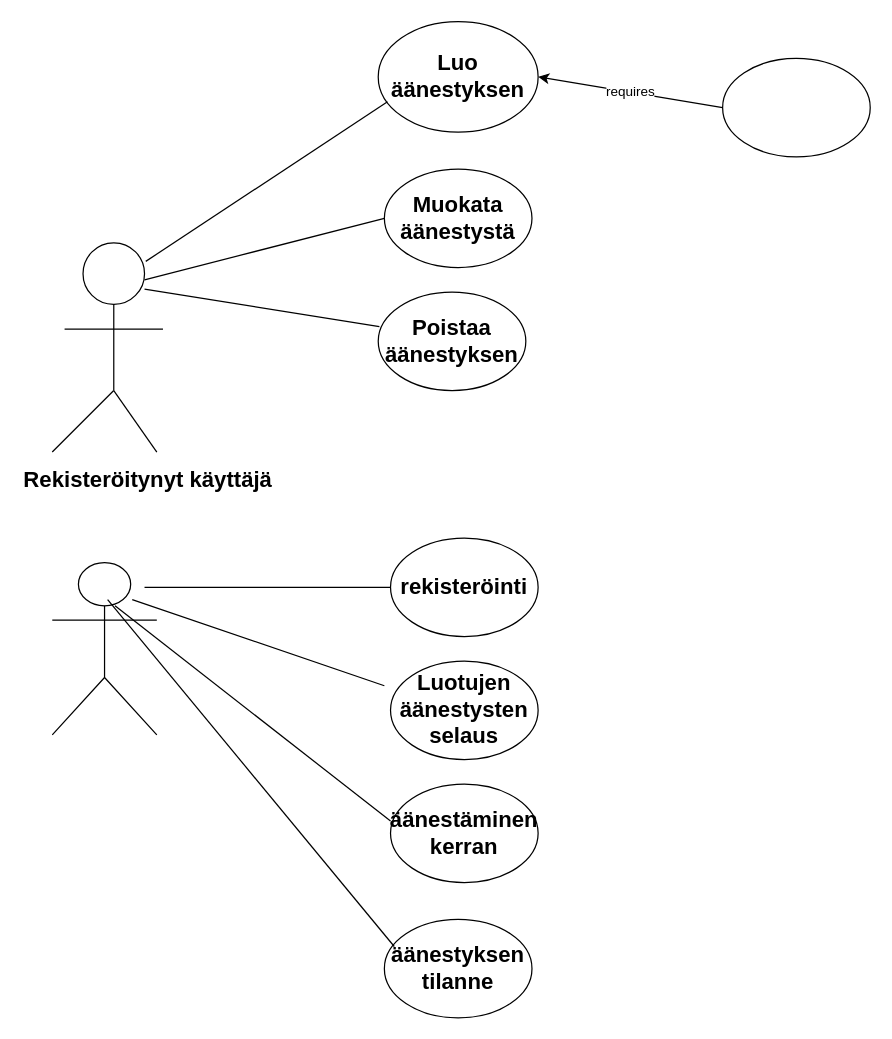
Image size: 892x1039. Some labels were removed from this diagram. The shapes that lost their labels are listed below. From the top down, each one's box as (x1, y1, x2, y2) in pixels, then its label:
(721, 57, 870, 157): login
(51, 561, 157, 735): Peruskäyttäjä
